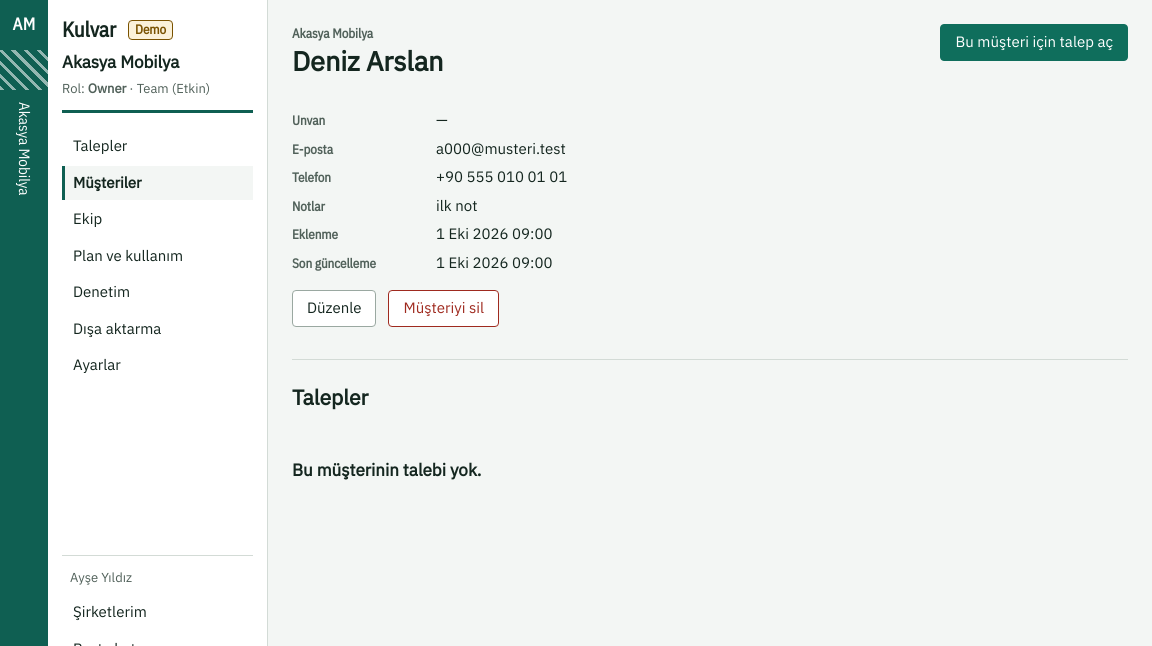
formlar › 412 çakışma: "güncel sürümü yükle" formu sunucudaki değerlerle değiştirir
Click the button "Düzenle". click: coordinates (334, 309)
box: [292,290,376,327]
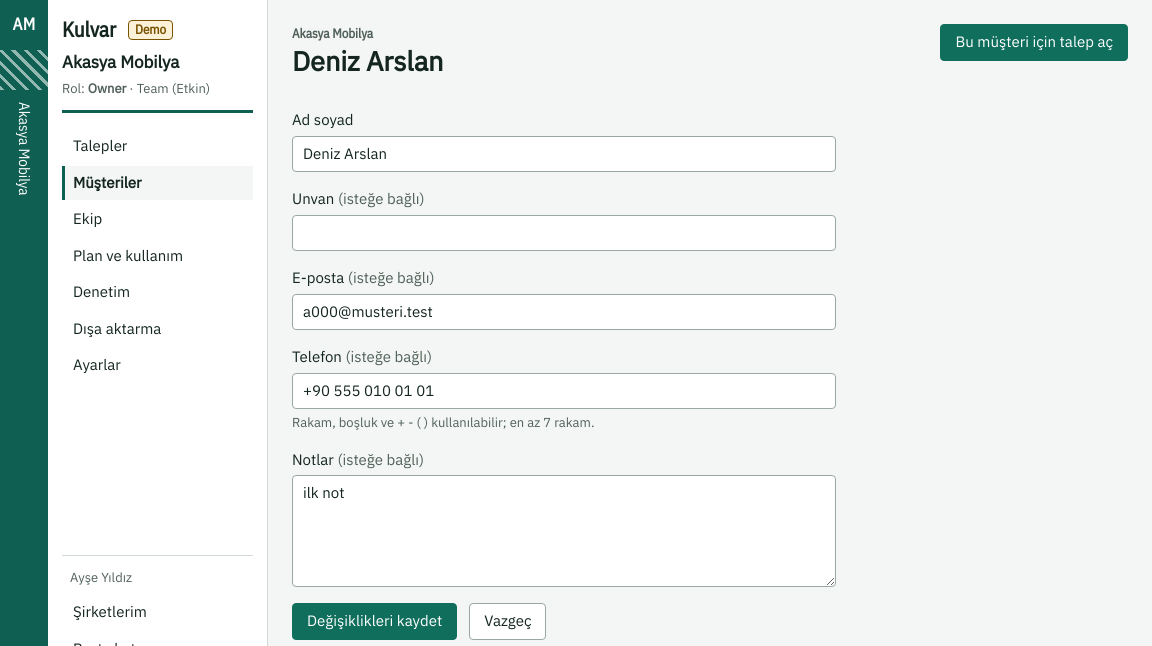
Type " + ekim" into the text box labelled "Notlar (isteğe bağlı)". click: coordinates (564, 531)
box: [292,475,836,587]
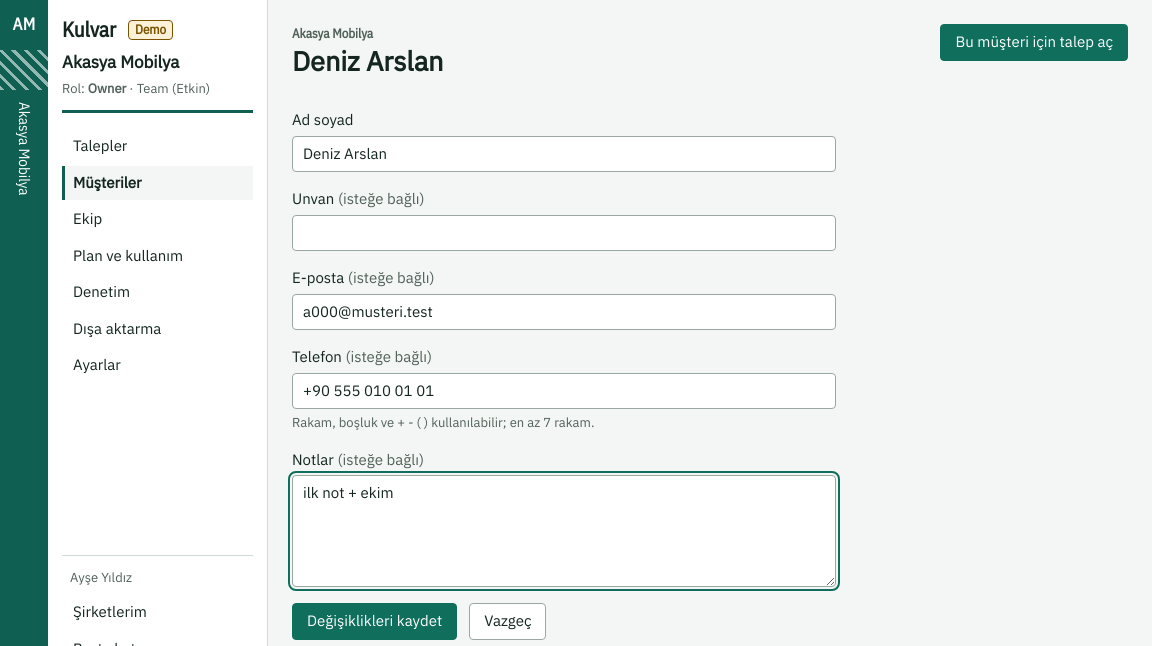
Click the button "Değişiklikleri kaydet". click: coordinates (375, 622)
box: [292,603,457,640]
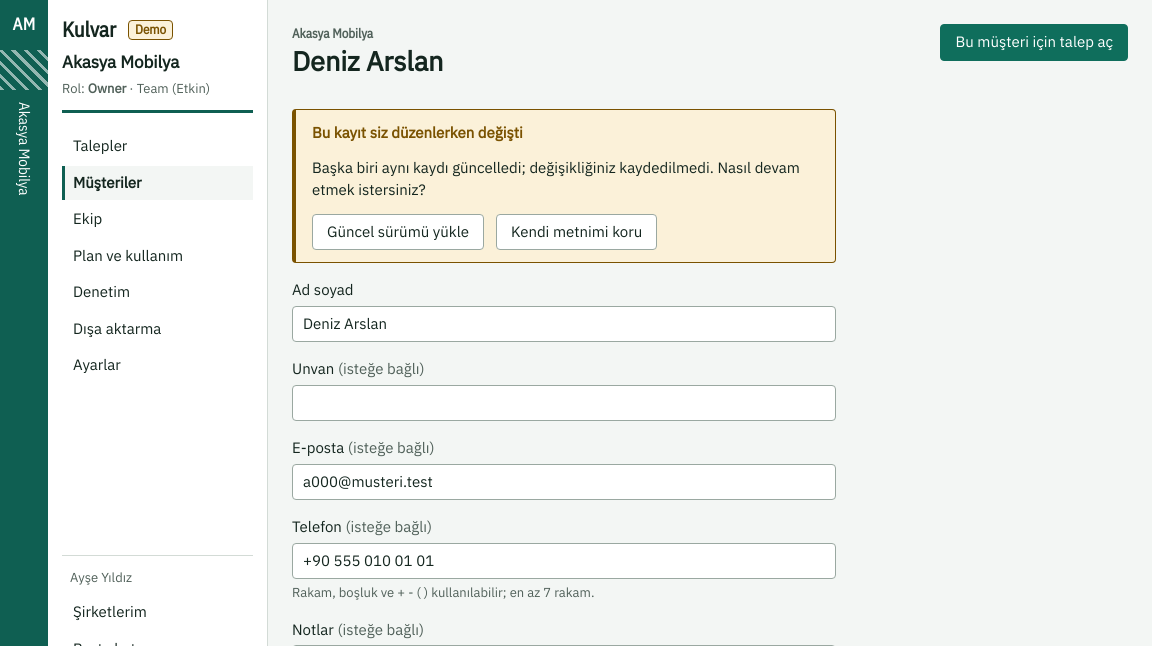
Click the button "Güncel sürümü yükle". click: coordinates (398, 232)
box: [312,214,484,250]
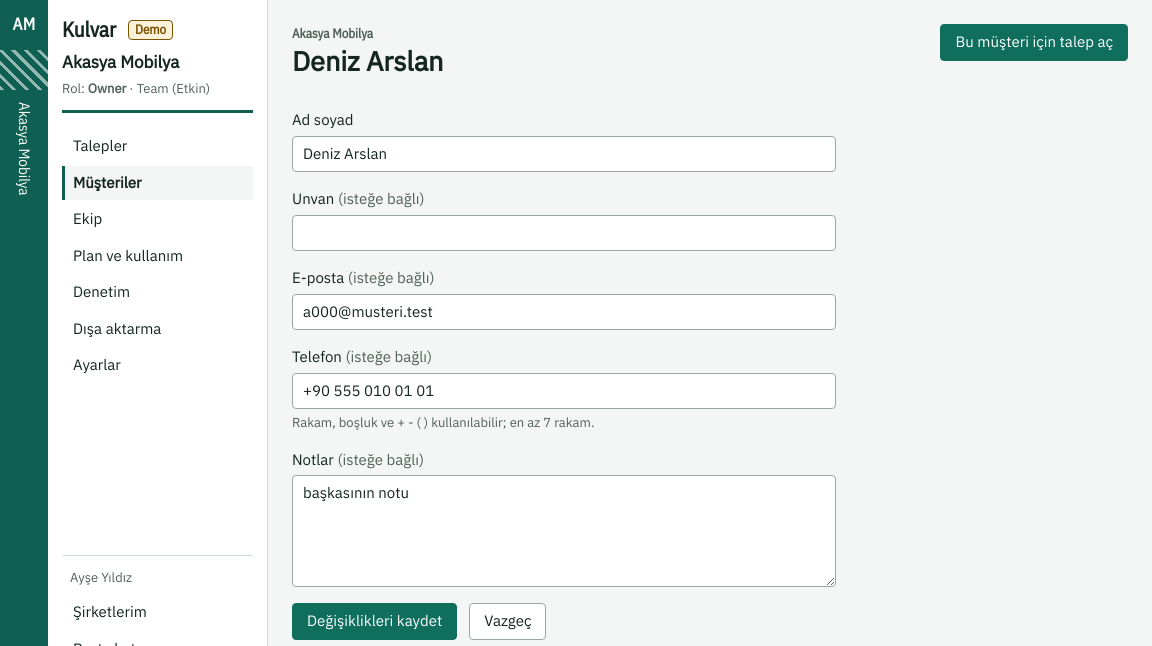
Result: the text box labelled "Notlar (isteğe bağlı)" holds "başkasının notu" at [292,475,836,587]
